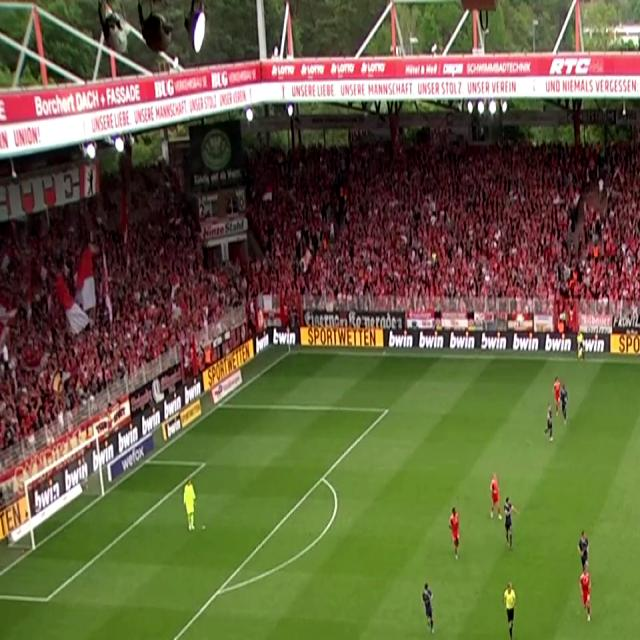goalkeeper: (179, 470, 205, 537)
referee: (497, 580, 522, 640), (576, 328, 587, 361)
soccer-player: (497, 499, 522, 559), (442, 504, 466, 566), (574, 562, 597, 626), (417, 578, 442, 636), (486, 470, 507, 523), (574, 530, 592, 577), (542, 402, 560, 445), (560, 384, 568, 424)
